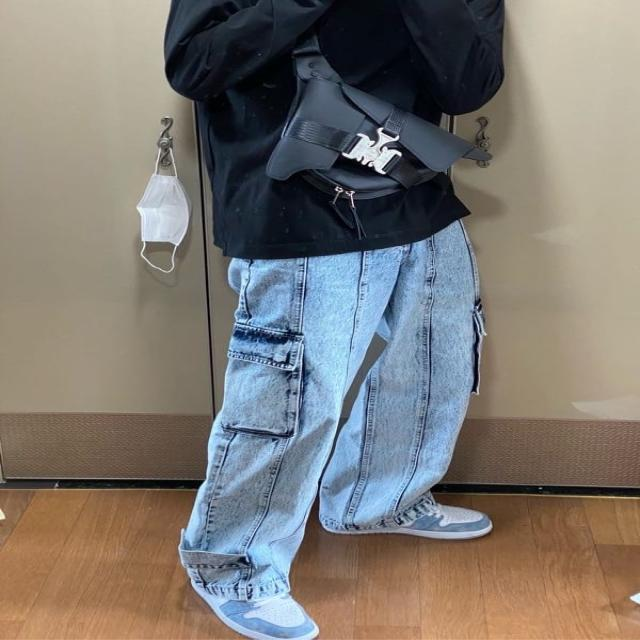denimpants: (182, 220, 484, 618)
longsleeve: (168, 4, 512, 264)
